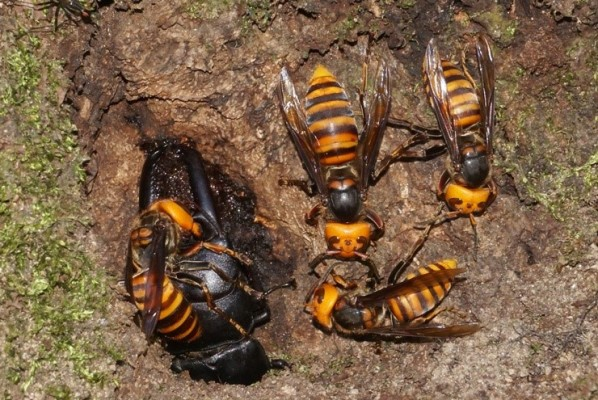asian_giant_hornet: (267, 57, 398, 267), (118, 192, 258, 346), (420, 32, 509, 233), (301, 256, 461, 338)
